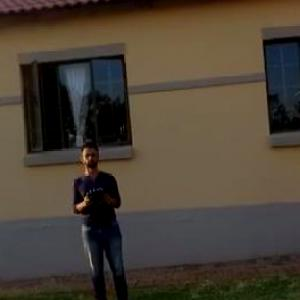follow: (72, 136, 138, 299)
